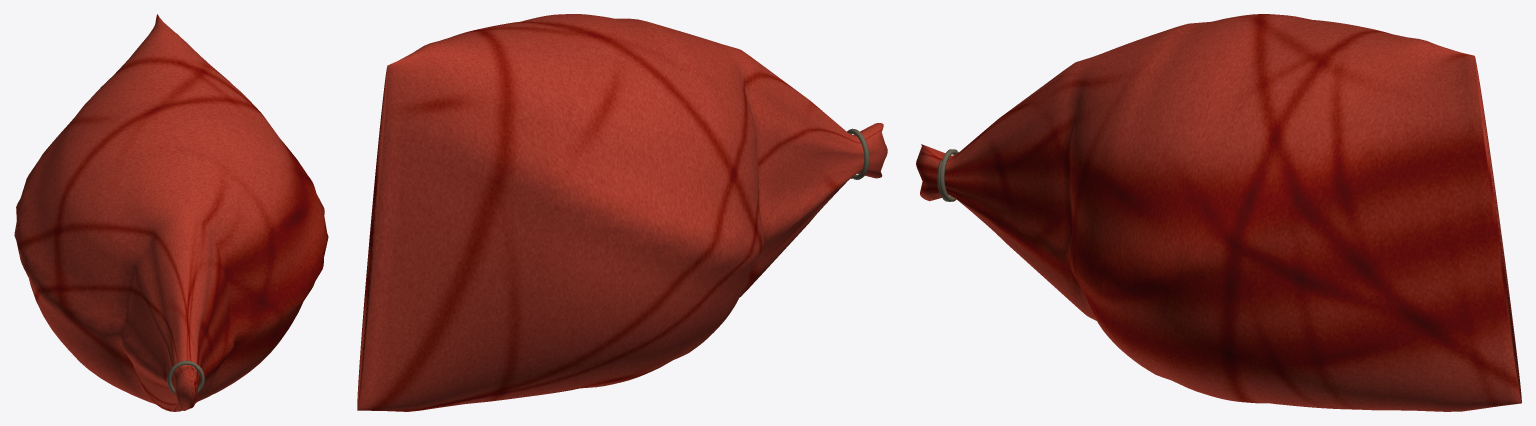
The model's file is peach_01_031.glb.
3 views of the same model, side by side, from view 1: azimuth 30°, elevation 25°; view 2: azimuth 150°, elevation 25°; view 3: azimuth 270°, elevation 25° (orthographic). The views are drawn at different scales.
Parts seen in each view (by area): view 1: export_Tree01/shoot3_2_1/bag, export_Tree01/shoot3_2_1/bag/tie; view 2: export_Tree01/shoot3_2_1/bag; view 3: export_Tree01/shoot3_2_1/bag.
Boxes of the visible parts, box(x1,y1,x2,y2) form: export_Tree01/shoot3_2_1/bag: box(14, 14, 328, 411); export_Tree01/shoot3_2_1/bag/tie: box(167, 360, 204, 394); export_Tree01/shoot3_2_1/bag: box(357, 14, 887, 411); export_Tree01/shoot3_2_1/bag: box(916, 14, 1521, 411).
Size of the model in its own units: 0.0887 by 0.0928 by 0.1343.
4 materials, 1 textured.
